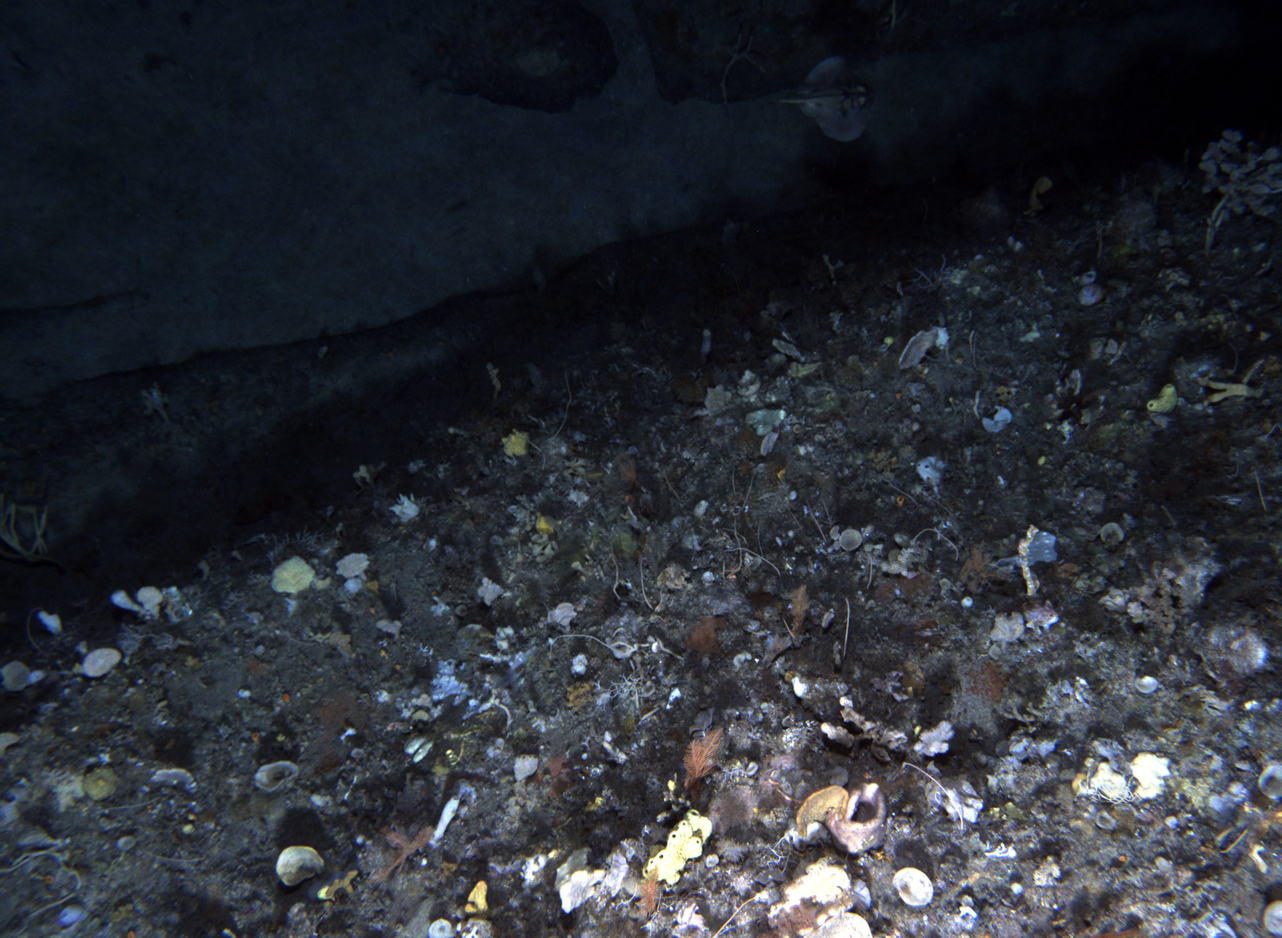Brachionichthyidae: (1019, 599, 1064, 635)
